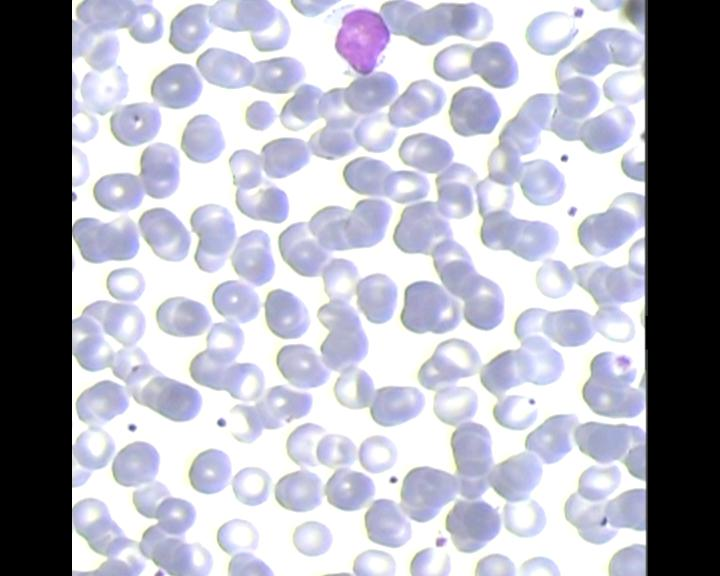lymp: (319, 2, 398, 82)
